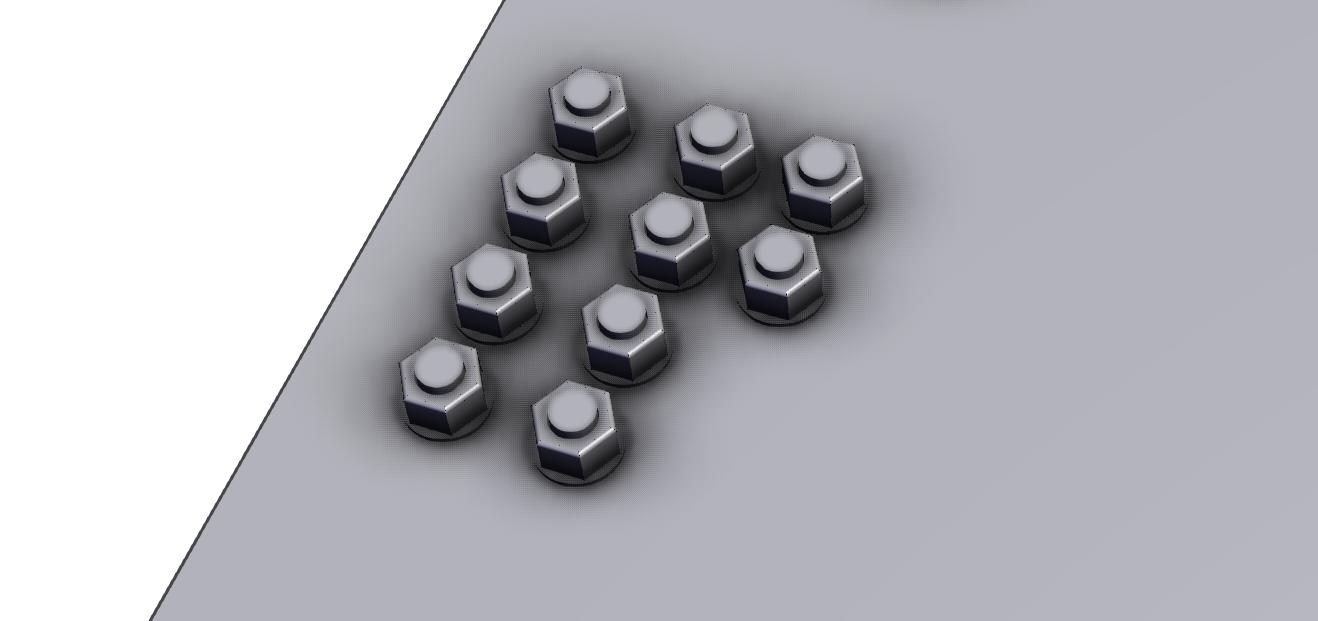bolt_b: (398, 335, 490, 439), (578, 283, 671, 381), (528, 380, 619, 479), (627, 189, 718, 287), (446, 242, 537, 338), (737, 223, 825, 321), (499, 149, 587, 244), (781, 132, 865, 230), (671, 103, 758, 194), (548, 66, 634, 157)
